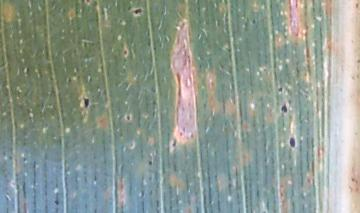tarspot: (286, 131, 297, 152), (79, 94, 94, 109), (130, 5, 147, 17), (274, 83, 287, 96), (278, 102, 291, 113), (144, 158, 156, 168), (122, 113, 134, 122), (53, 197, 61, 205)
